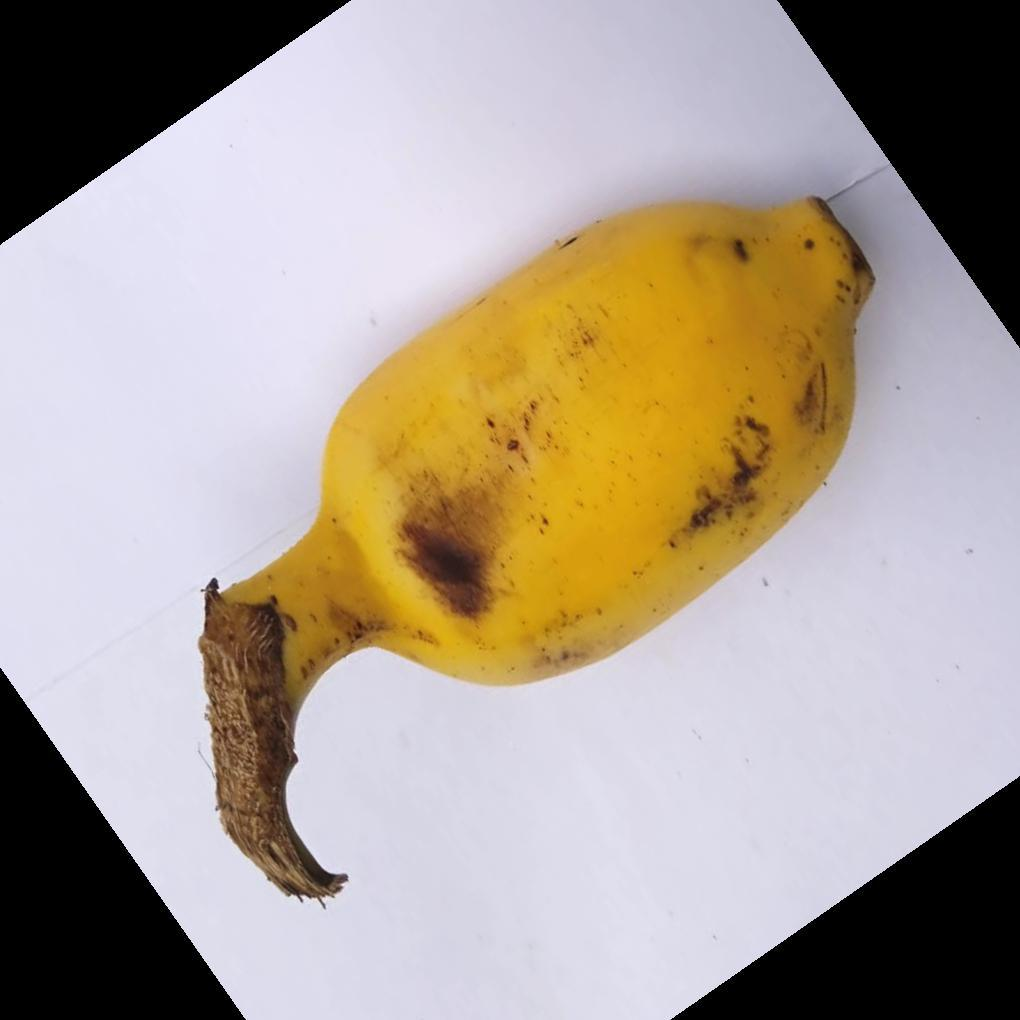Banana Ripe: (235, 171, 927, 780)
